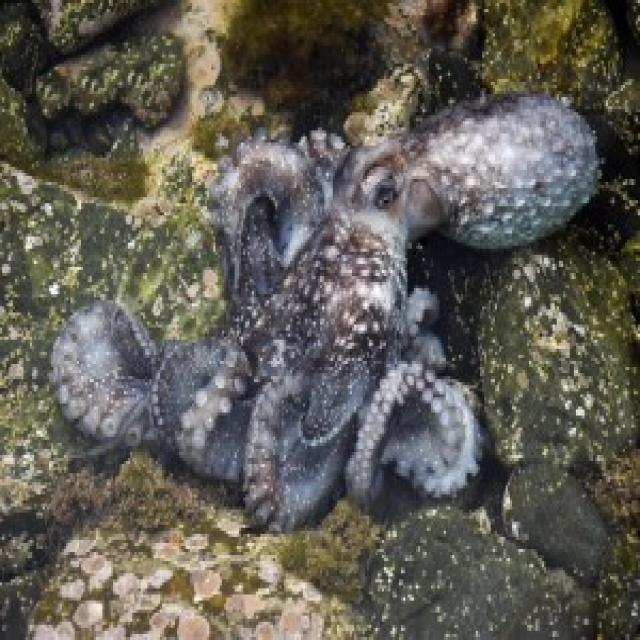Octo: (51, 90, 620, 503)
